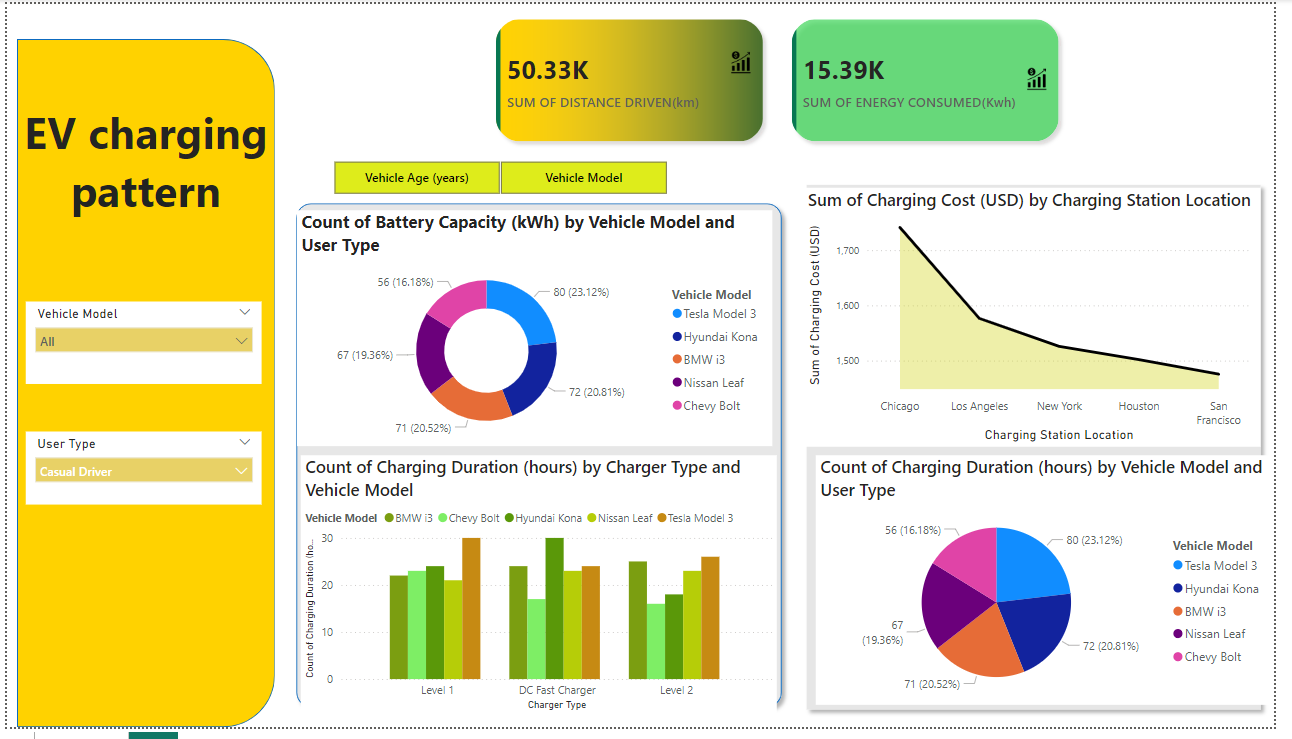

The page's visual inventory and layout, read from the dashboard file:
{"tool":"powerbi","page":{"name":"Page 1","canvas":[1400,800],"ordinal":0},"visuals":[{"type":"shape","box":[10.5,39,285.2,760.9],"z":0},{"type":"textbox","box":[10.5,103.6,285.2,172.6],"z":1000},{"type":"cardVisual","fields":{"Data":["Sum(ev_charging_patterns.Distance Driven (since last charge) (km))","Sum(ev_charging_patterns.Energy Consumed (kWh))"]},"box":[523.8,0,657.4,169.6],"z":2000},{"type":"shape","box":[310.9,210.9,554.7,575],"z":3000},{"type":"donutChart","fields":{"Category":["ev_charging_patterns.Vehicle Model"],"Y":["CountNonNull(ev_charging_patterns.Battery Capacity (kWh))"],"Series":["ev_charging_patterns.User Type"]},"box":[321.2,228.1,525.3,261.2],"z":4000},{"type":"slicer","fields":{"Values":["values.values"]},"box":[336.2,166.6,417.2,49.5],"z":5000},{"type":"lineClusteredColumnComboChart","fields":{"Category":["ev_charging_patterns.Charger Type"],"Series":["ev_charging_patterns.Vehicle Model"],"Y":["CountNonNull(ev_charging_patterns.Charging Duration (hours))"]},"box":[325,498.4,526.6,287.5],"z":6000},{"type":"shape","box":[875,190.6,520.3,598.4],"z":7000},{"type":"lineChart","fields":{"Category":["ev_charging_patterns.Charging Station Location"],"Y":["Sum(ev_charging_patterns.Charging Cost (USD))"]},"box":[881,202.6,505.8,286.7],"z":8000},{"type":"pieChart","fields":{"Y":["CountNonNull(ev_charging_patterns.Charging Duration (hours))"],"Category":["ev_charging_patterns.Vehicle Model"],"Series":["ev_charging_patterns.User Type"]},"box":[894.5,498.3,505.8,276.2],"z":9000},{"type":"slicer","fields":{"Values":["ev_charging_patterns.Vehicle Model"]},"box":[21,328.7,261.2,91.6],"z":10000},{"type":"slicer","fields":{"Values":["ev_charging_patterns.User Type"]},"box":[21,472.8,261.2,81],"z":11000}]}

Visuals, with their boxes in screenshot pixels (x1, y1, x2, y2), scaled from the page's 1400x800 canvas onto the 1292x739 screenshot:
shape: {"x1": 10, "y1": 36, "x2": 273, "y2": 738}
textbox: {"x1": 10, "y1": 96, "x2": 273, "y2": 255}
cardVisual - Sum(ev_charging_patterns.Distance Driven (since last charge) (km)) x Sum(ev_charging_patterns.Energy Consumed (kWh)): {"x1": 483, "y1": 0, "x2": 1090, "y2": 157}
shape: {"x1": 287, "y1": 195, "x2": 799, "y2": 726}
donutChart - ev_charging_patterns.Vehicle Model x CountNonNull(ev_charging_patterns.Battery Capacity (kWh)): {"x1": 296, "y1": 211, "x2": 781, "y2": 452}
slicer - values.values: {"x1": 310, "y1": 154, "x2": 695, "y2": 200}
lineClusteredColumnComboChart - ev_charging_patterns.Charger Type x ev_charging_patterns.Vehicle Model: {"x1": 300, "y1": 460, "x2": 786, "y2": 726}
shape: {"x1": 808, "y1": 176, "x2": 1288, "y2": 729}
lineChart - ev_charging_patterns.Charging Station Location x Sum(ev_charging_patterns.Charging Cost (USD)): {"x1": 813, "y1": 187, "x2": 1280, "y2": 452}
pieChart - CountNonNull(ev_charging_patterns.Charging Duration (hours)) x ev_charging_patterns.Vehicle Model: {"x1": 825, "y1": 460, "x2": 1291, "y2": 715}
slicer - ev_charging_patterns.Vehicle Model: {"x1": 19, "y1": 304, "x2": 260, "y2": 388}
slicer - ev_charging_patterns.User Type: {"x1": 19, "y1": 437, "x2": 260, "y2": 512}
